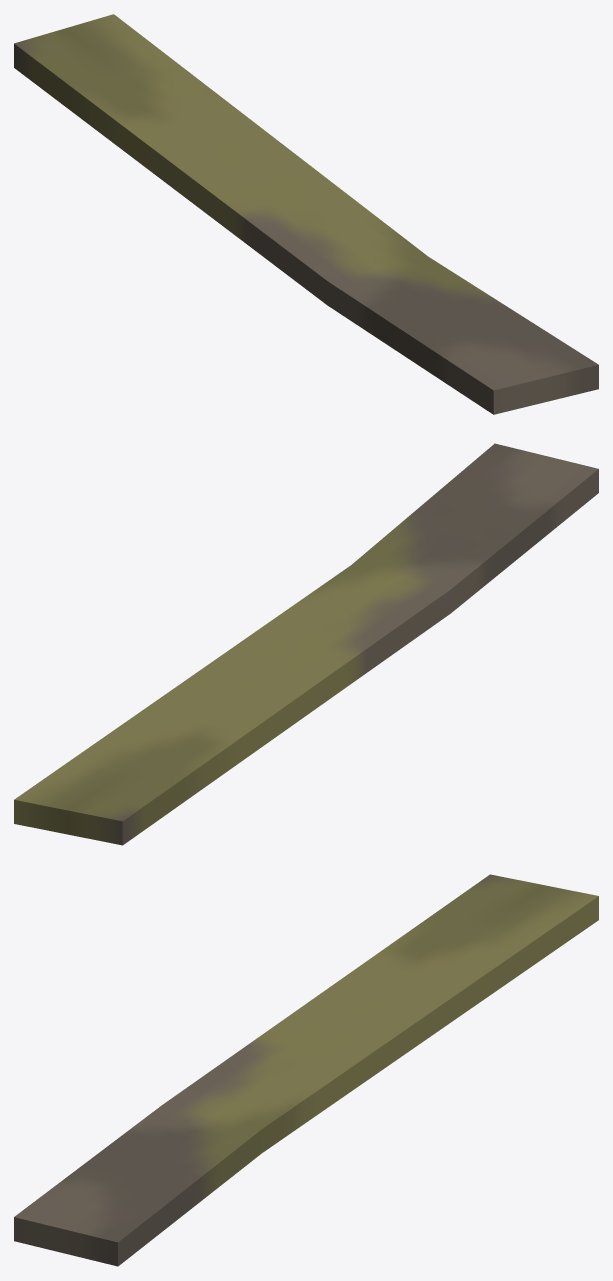
File: SM_Bld_Platform_Wood_Plank_03.obj
3 renders of one model, top to bottom at view 1: azimuth 30°, elevation 25°; view 2: azimuth 150°, elevation 25°; view 3: azimuth 330°, elevation 25°, orthographic.
Parts seen in each view (by area): view 1: SM_Bld_Platform_Wood_Plank_03_0; view 2: SM_Bld_Platform_Wood_Plank_03_0; view 3: SM_Bld_Platform_Wood_Plank_03_0.
Part boxes in pixels (<box>): SM_Bld_Platform_Wood_Plank_03_0: <box>14,14,598,414</box>; SM_Bld_Platform_Wood_Plank_03_0: <box>14,443,598,845</box>; SM_Bld_Platform_Wood_Plank_03_0: <box>14,874,598,1266</box>.
Bounding box in the file's own units: 0.3497 × 0.0859 × 2.58.
Materials: 1 (1 with a texture image).
